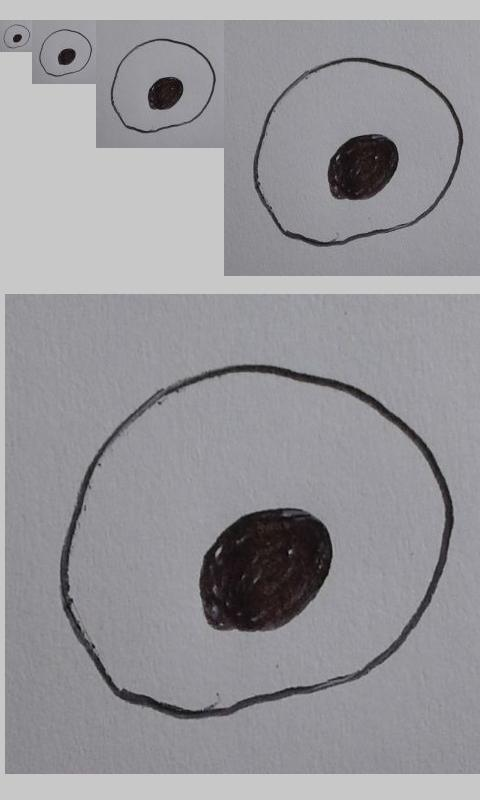radio_button: (57, 361, 457, 724), (251, 55, 464, 247), (108, 37, 216, 134), (37, 27, 92, 78), (2, 23, 30, 49)
